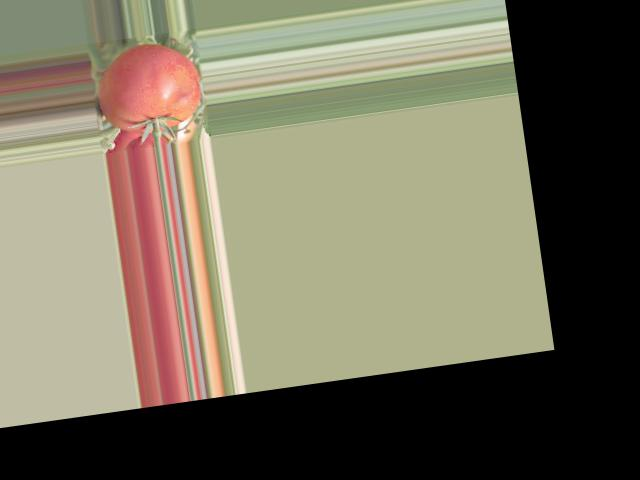tomato: (93, 38, 206, 138)
